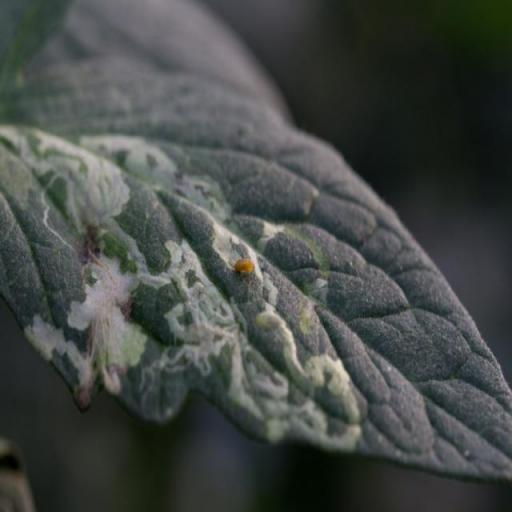disease_tomato: (0, 58, 512, 480)
